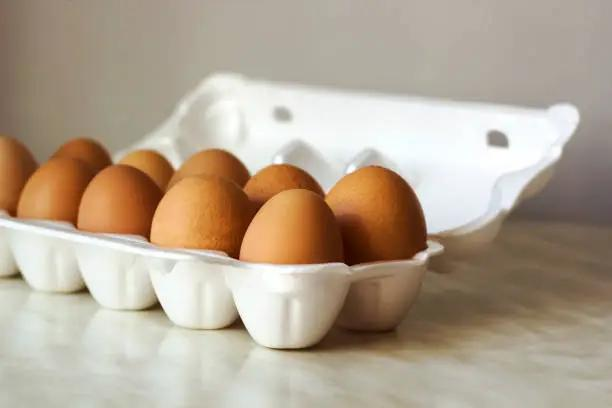glass: (0, 70, 582, 350)
